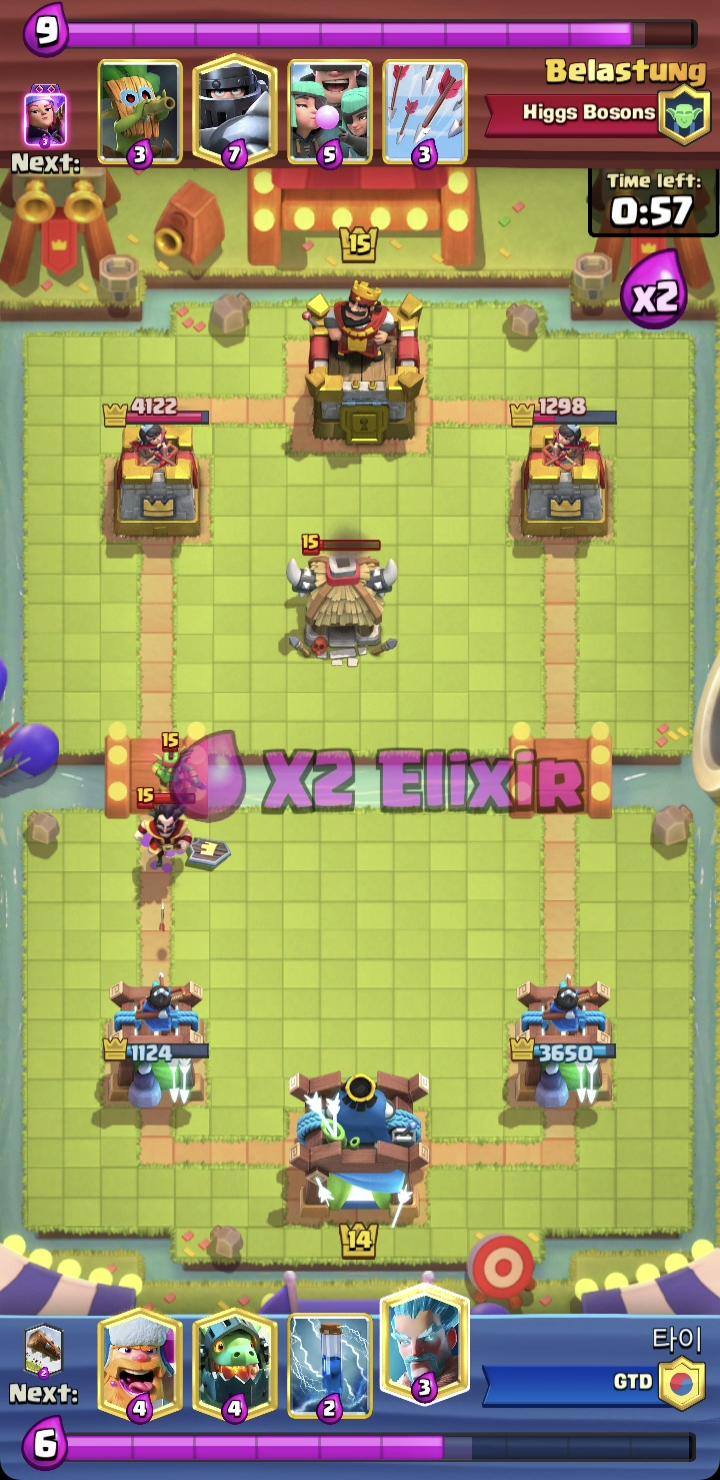enemy_electro_wizard: (133, 785, 195, 867)
enemy_goblin_hut: (284, 533, 399, 669)
enemy_spear_goblin: (148, 729, 200, 801)
